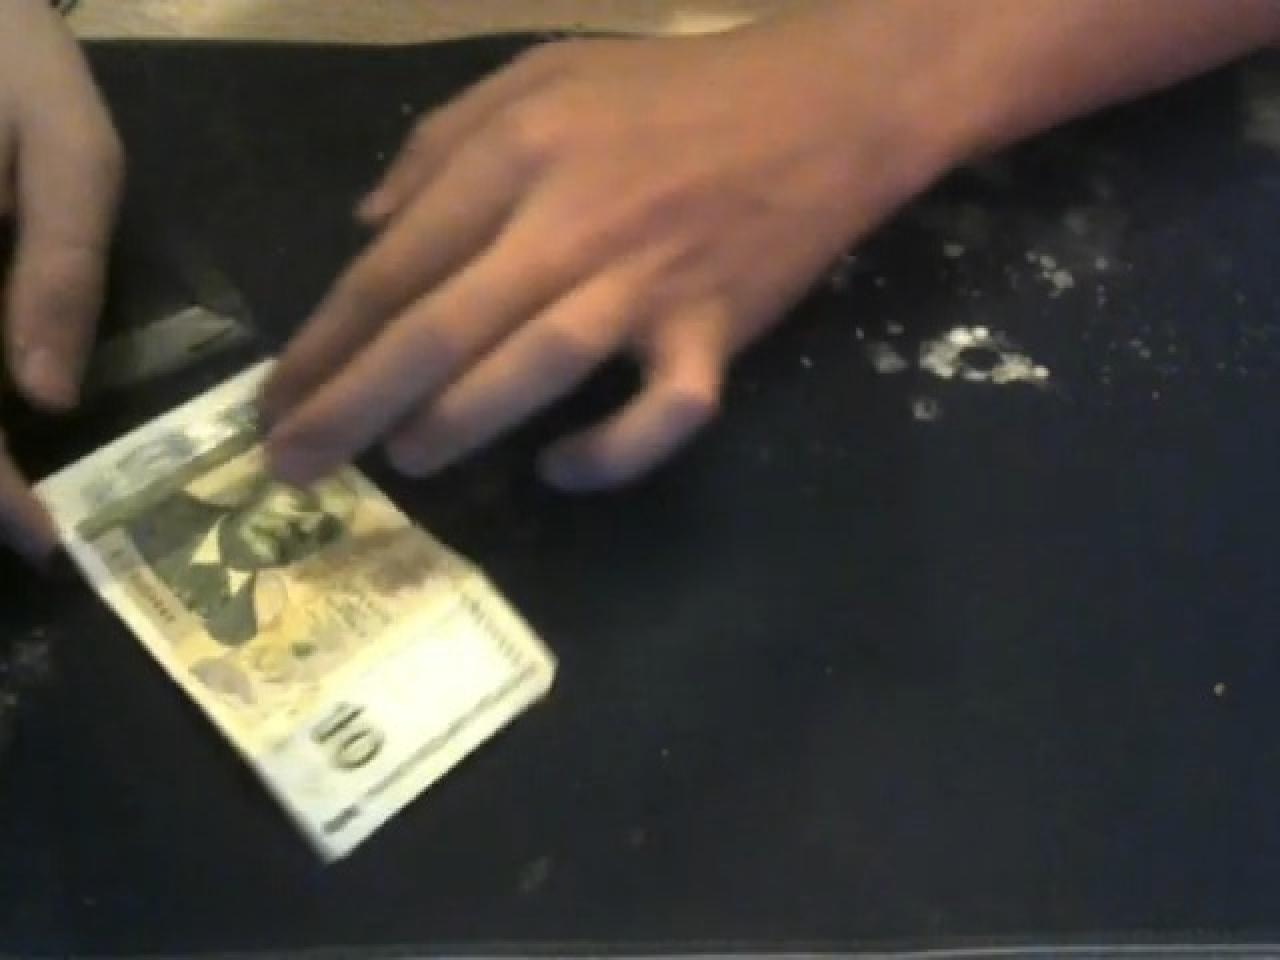10leva: (28, 357, 558, 866)
